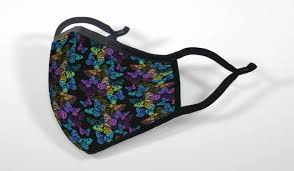cloth_mask: (49, 16, 258, 156)
